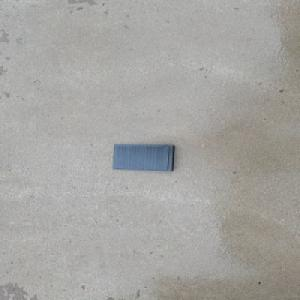PlasticPart: (111, 143, 176, 172)
